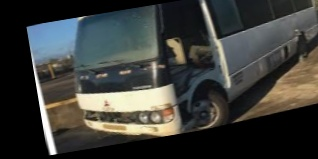bus: (56, 0, 318, 151)
